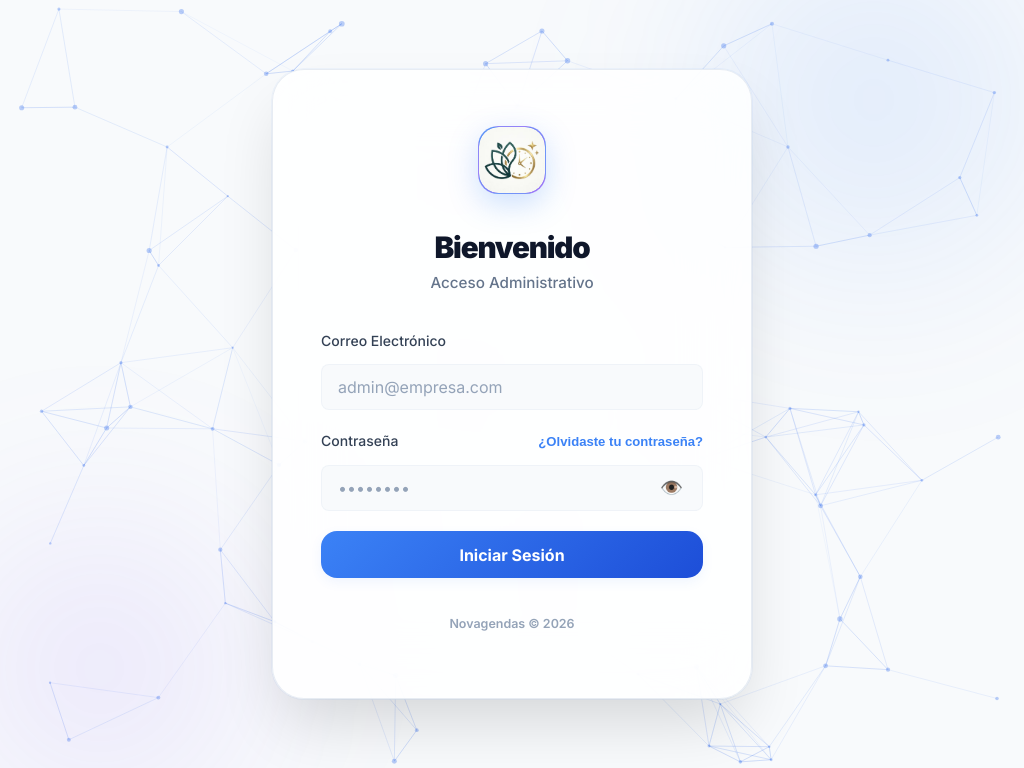
Login Component › shows error if supabase returns no data or error
Type "test@test.com" into the field with placeholder "admin@empresa.com" at (512, 387), box [321,364,703,410]
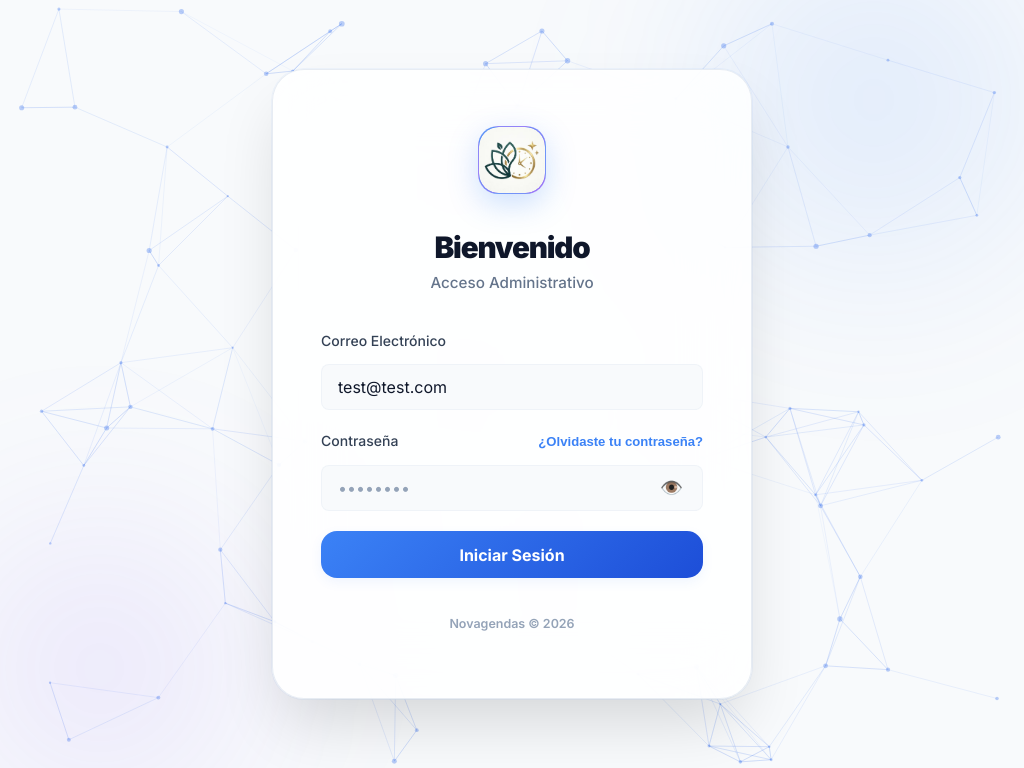
Type "wrongpass" into the password field with placeholder "••••••••" at (512, 488), box [321,465,703,511]
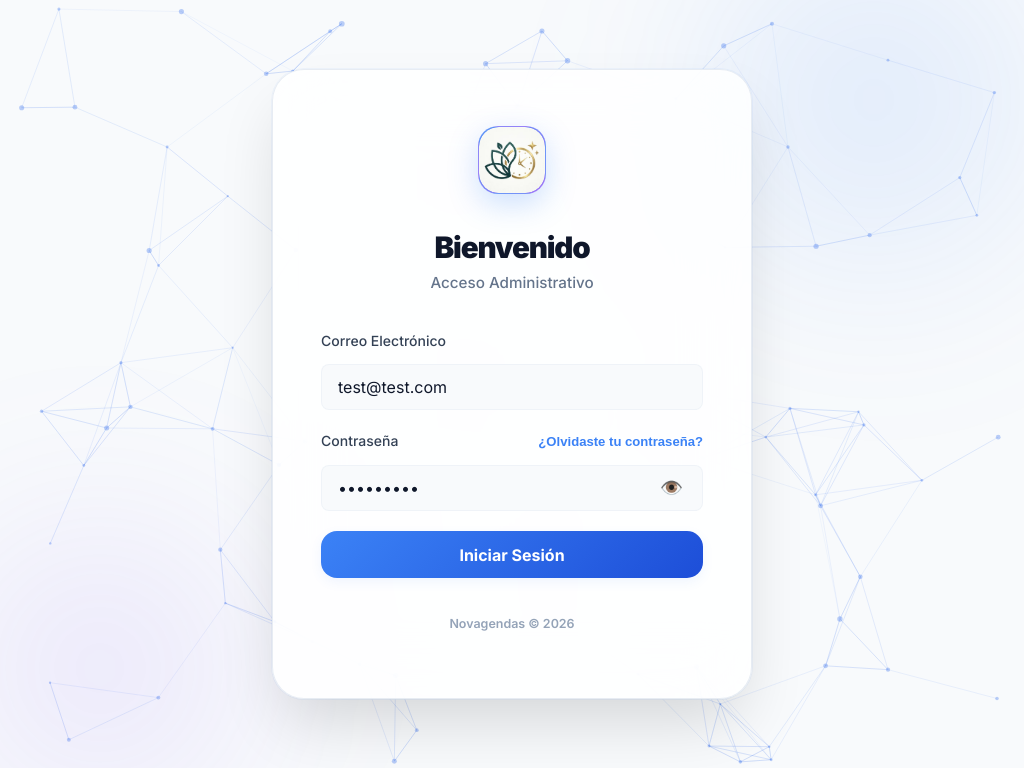
Click the button "Iniciar Sesión" at (512, 555), box [321,531,703,578]
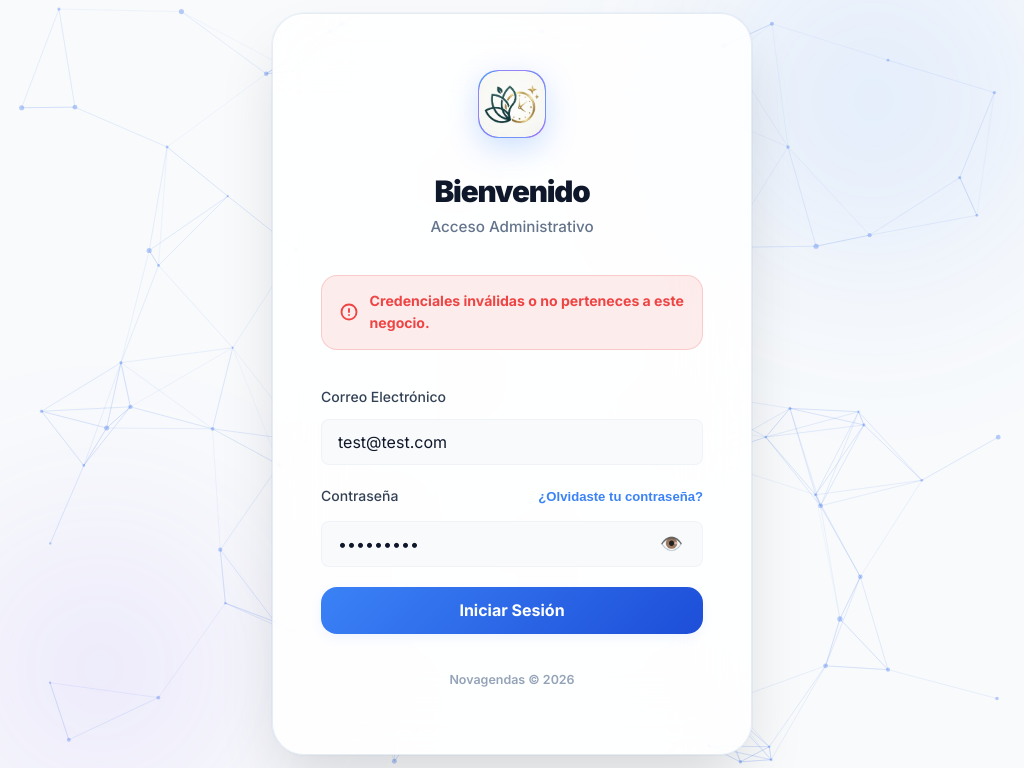
Expected: the text "Credenciales inválidas o no perteneces a este negocio." is shown, [370,290,684,335]
